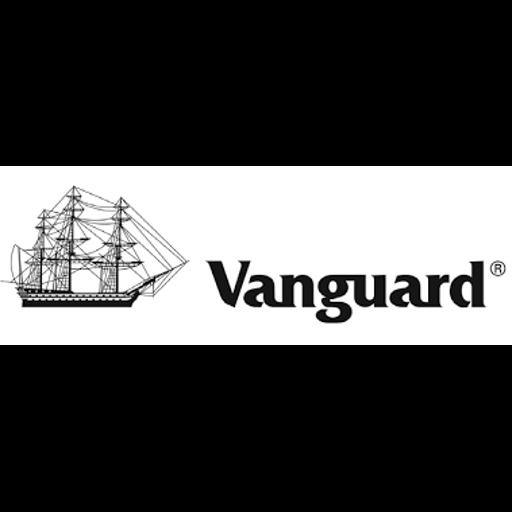The Vanguard Group: (0, 166, 512, 345)
